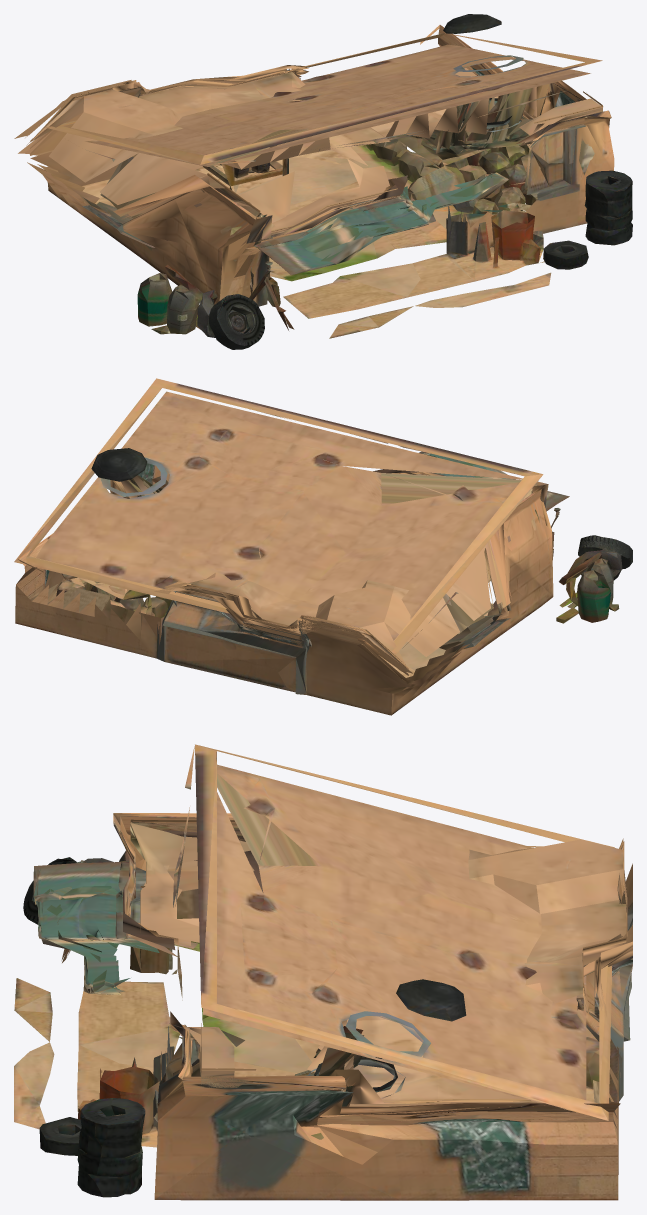
The model's file is militia_weapons_workshop_wreck.glb.
3 views of the same model, one above another, from view 1: azimuth 30°, elevation 25°; view 2: azimuth 150°, elevation 25°; view 3: azimuth 270°, elevation 25° (orthographic). The views are drawn at different scales.
Parts seen in each view (by area): view 1: wall, roof; view 2: roof, wall; view 3: wall, roof.
Part boxes in pixels (x1,y1,x2,y2): wall: (14,25,632,349); roof: (46,14,602,166); roof: (14,378,543,653); wall: (15,451,632,715); wall: (14,813,632,1200); roof: (172,744,614,1120).
Size of the model in its own units: 5.99 by 1.78 by 5.04.
Materials: 1 (1 with a texture image).
